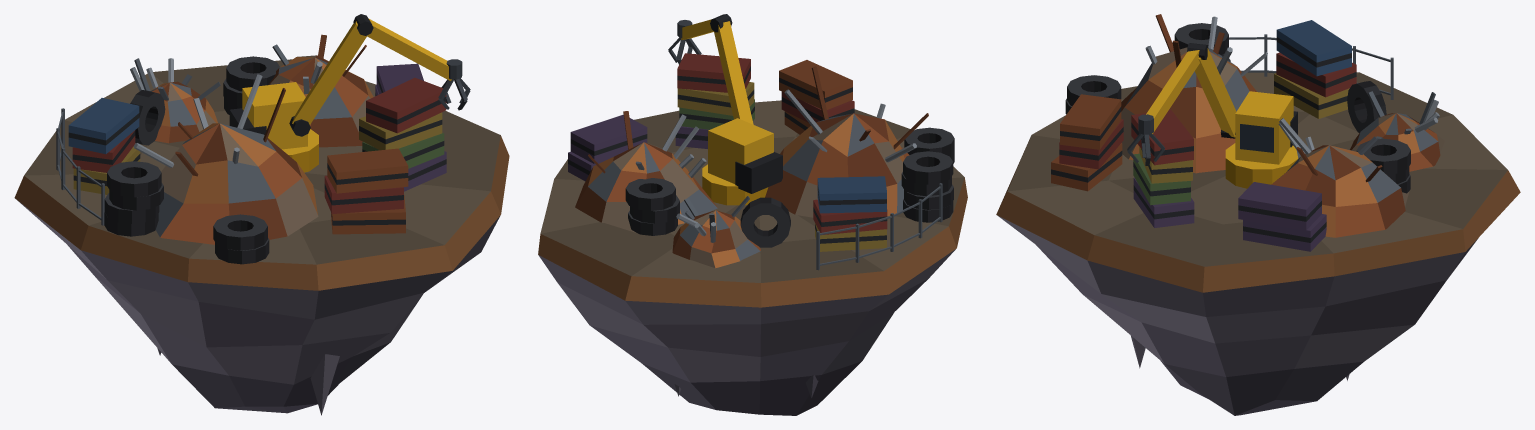
The model's file is junk_island.glb.
3 views of the same model, side by side, from view 1: azimuth 30°, elevation 25°; view 2: azimuth 150°, elevation 25°; view 3: azimuth 270°, elevation 25° (orthographic). The views are drawn at different scales.
Visible parts, largest first — view 1: Rock, Junk; view 2: Rock, Junk; view 3: Rock, Junk.
Part boxes in pixels (left/top/right/bottom): Rock: left=14, top=59, right=509, bottom=415; Junk: left=56, top=14, right=470, bottom=264; Rock: left=538, top=100, right=967, bottom=415; Junk: left=568, top=14, right=954, bottom=270; Rock: left=996, top=72, right=1520, bottom=415; Junk: left=1051, top=14, right=1444, bottom=251.
Size of the model in its own units: 13.82 by 12.57 by 15.04.
